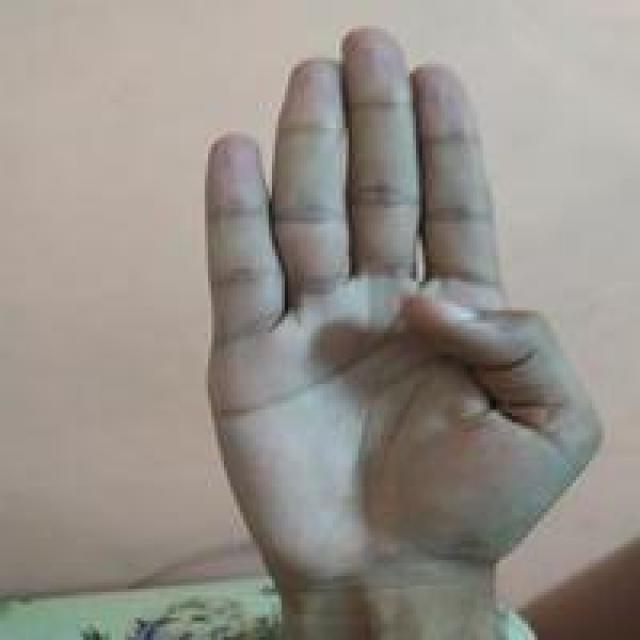B: (200, 19, 606, 611)
